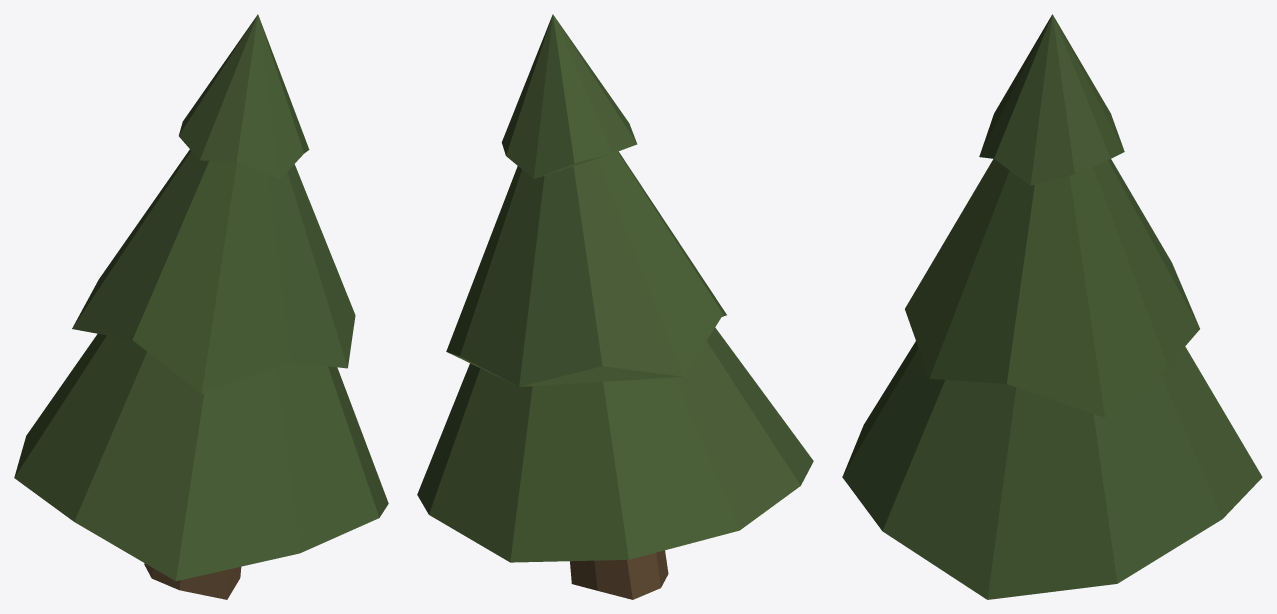
File: petit_sapin.fbx
3 renders of one model, left to right at view 1: azimuth 30°, elevation 25°; view 2: azimuth 150°, elevation 25°; view 3: azimuth 270°, elevation 25°, orthographic. The views are drawn at different scales.
Parts seen in each view (by area): view 1: Cône.005; view 2: Cône.005; view 3: Cône.005.
Boxes of the visible parts, x1,y1,x2,y2 form: Cône.005: (14,14,388,599); Cône.005: (417,14,813,599); Cône.005: (842,14,1262,599).
Bounding box in the file's own units: 497 × 814 × 526.
